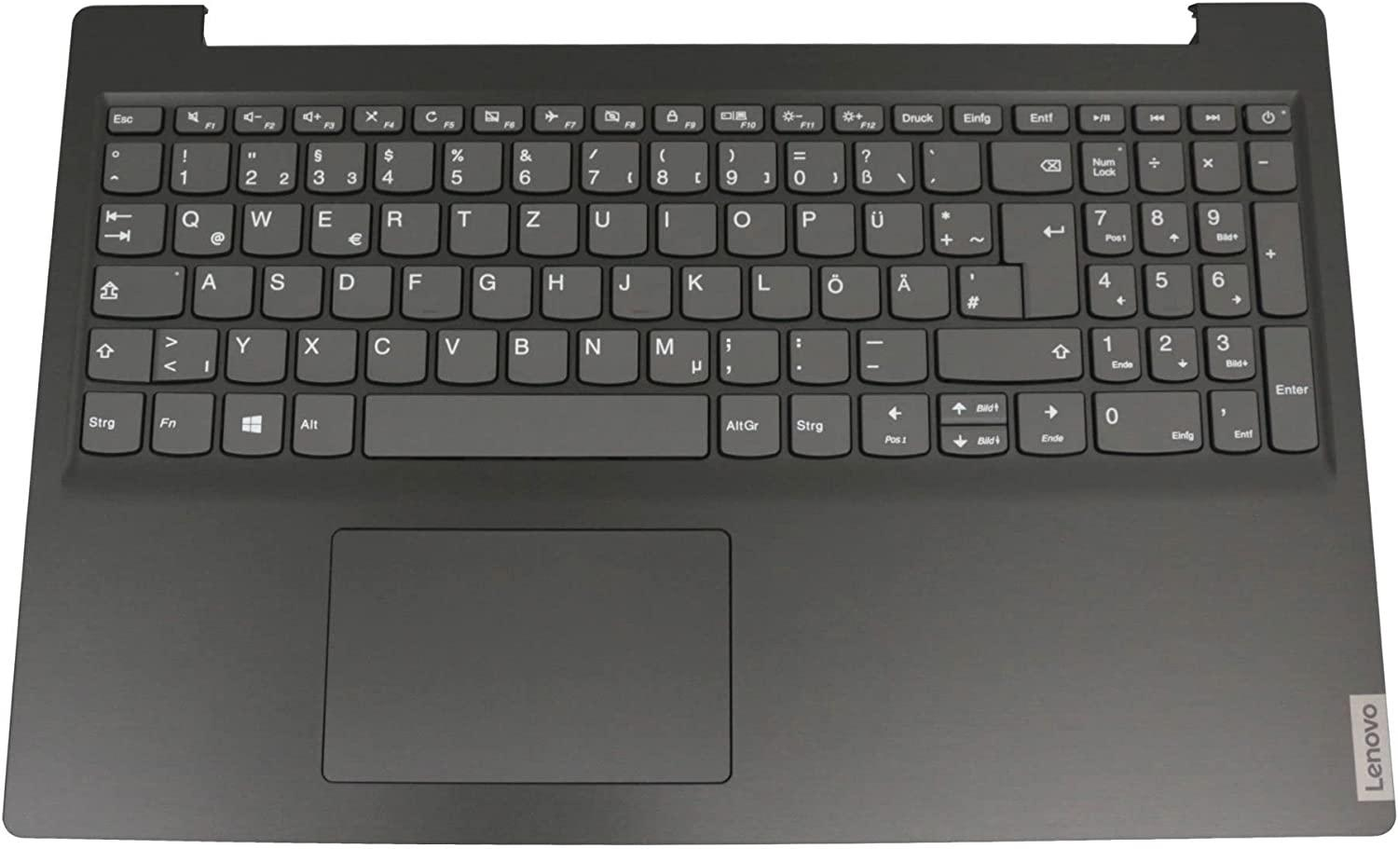0: (781, 136, 844, 192)
1: (167, 138, 227, 192)
2: (233, 137, 297, 192)
3: (302, 138, 365, 193)
4: (371, 137, 432, 191)
5: (439, 138, 500, 191)
6: (507, 137, 569, 192)
7: (577, 136, 638, 192)
8: (644, 137, 706, 192)
9: (712, 136, 775, 192)
a: (189, 261, 252, 317)
accent: (918, 137, 980, 191)
ae: (884, 261, 949, 318)
alt-left: (287, 389, 353, 456)
altgr-right: (714, 390, 778, 457)
b: (502, 325, 568, 383)
c: (362, 324, 426, 382)
caret: (99, 138, 159, 191)
comma: (714, 325, 778, 383)
d: (328, 262, 391, 319)
del: (987, 136, 1073, 191)
e: (307, 199, 370, 255)
enter: (999, 199, 1076, 318)
f: (398, 261, 460, 318)
g: (467, 262, 530, 318)
h: (537, 262, 600, 318)
hash: (954, 261, 1020, 316)
i: (653, 199, 715, 254)
j: (607, 261, 670, 318)
k: (677, 261, 740, 318)
keyboard: (60, 85, 1339, 478)
l: (747, 261, 809, 318)
less: (151, 323, 217, 380)
m: (643, 325, 708, 383)
minus: (853, 325, 926, 382)
n: (573, 325, 637, 383)
o: (721, 199, 784, 255)
oe: (816, 261, 878, 318)
p: (791, 199, 854, 254)
plus: (928, 199, 991, 254)
point: (784, 325, 848, 382)
q: (170, 199, 233, 254)
r: (376, 199, 439, 254)
s: (257, 261, 321, 318)
shift-left: (82, 323, 148, 380)
shift-lock: (88, 261, 184, 317)
shift-right: (933, 322, 1082, 379)
space: (360, 389, 708, 458)
ss: (849, 137, 911, 191)
strg-left: (75, 386, 142, 454)
strg-right: (785, 389, 851, 457)
t: (445, 199, 507, 254)
tab: (93, 199, 163, 253)
u: (583, 199, 647, 255)
ue: (859, 199, 922, 255)
v: (432, 325, 497, 382)
w: (239, 199, 300, 254)
x: (292, 324, 356, 382)
y: (223, 324, 286, 382)
z: (514, 199, 577, 255)
